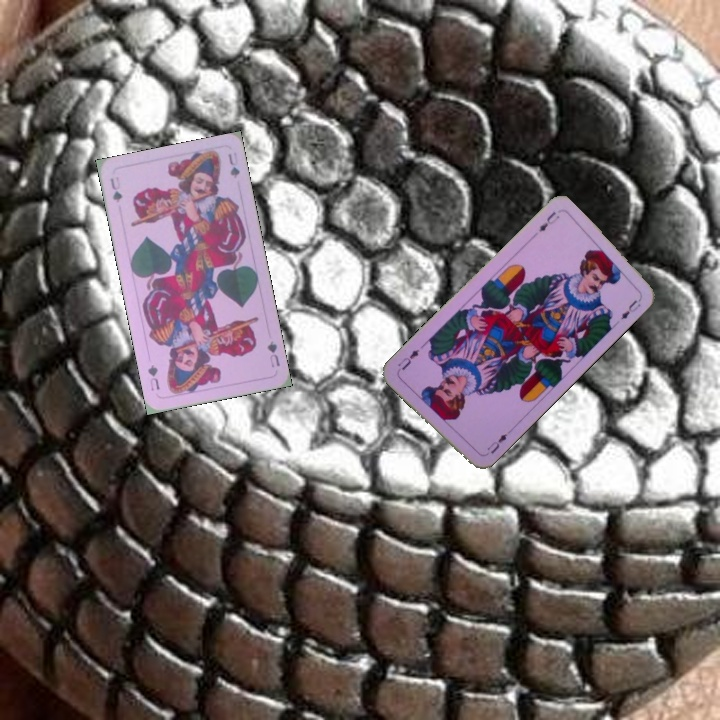EU: (483, 429, 510, 456), (535, 208, 562, 235)
GU: (263, 337, 283, 370), (106, 173, 125, 205)
